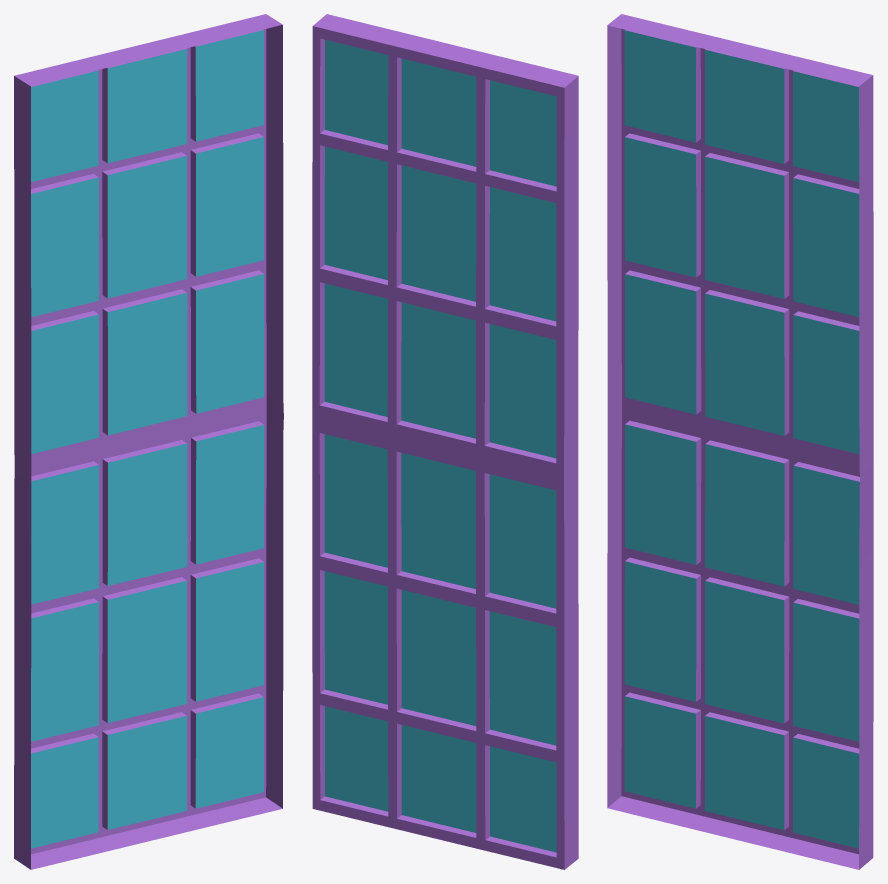
The model's file is ventana_tipo_grande.fbx.
The picture shows the model from 3 angles, left to right: view 1: azimuth 30°, elevation 25°; view 2: azimuth 150°, elevation 25°; view 3: azimuth 330°, elevation 25°; orthographic projection.
Visible parts, largest first — view 1: ventanaGrande; view 2: ventanaGrande; view 3: ventanaGrande.
Part boxes in pixels (x1,y1,x2,y2): ventanaGrande: (14,14,283,869); ventanaGrande: (312,14,578,869); ventanaGrande: (607,14,873,869).
Size of the model in its own units: 416 by 1226 by 44.08.
